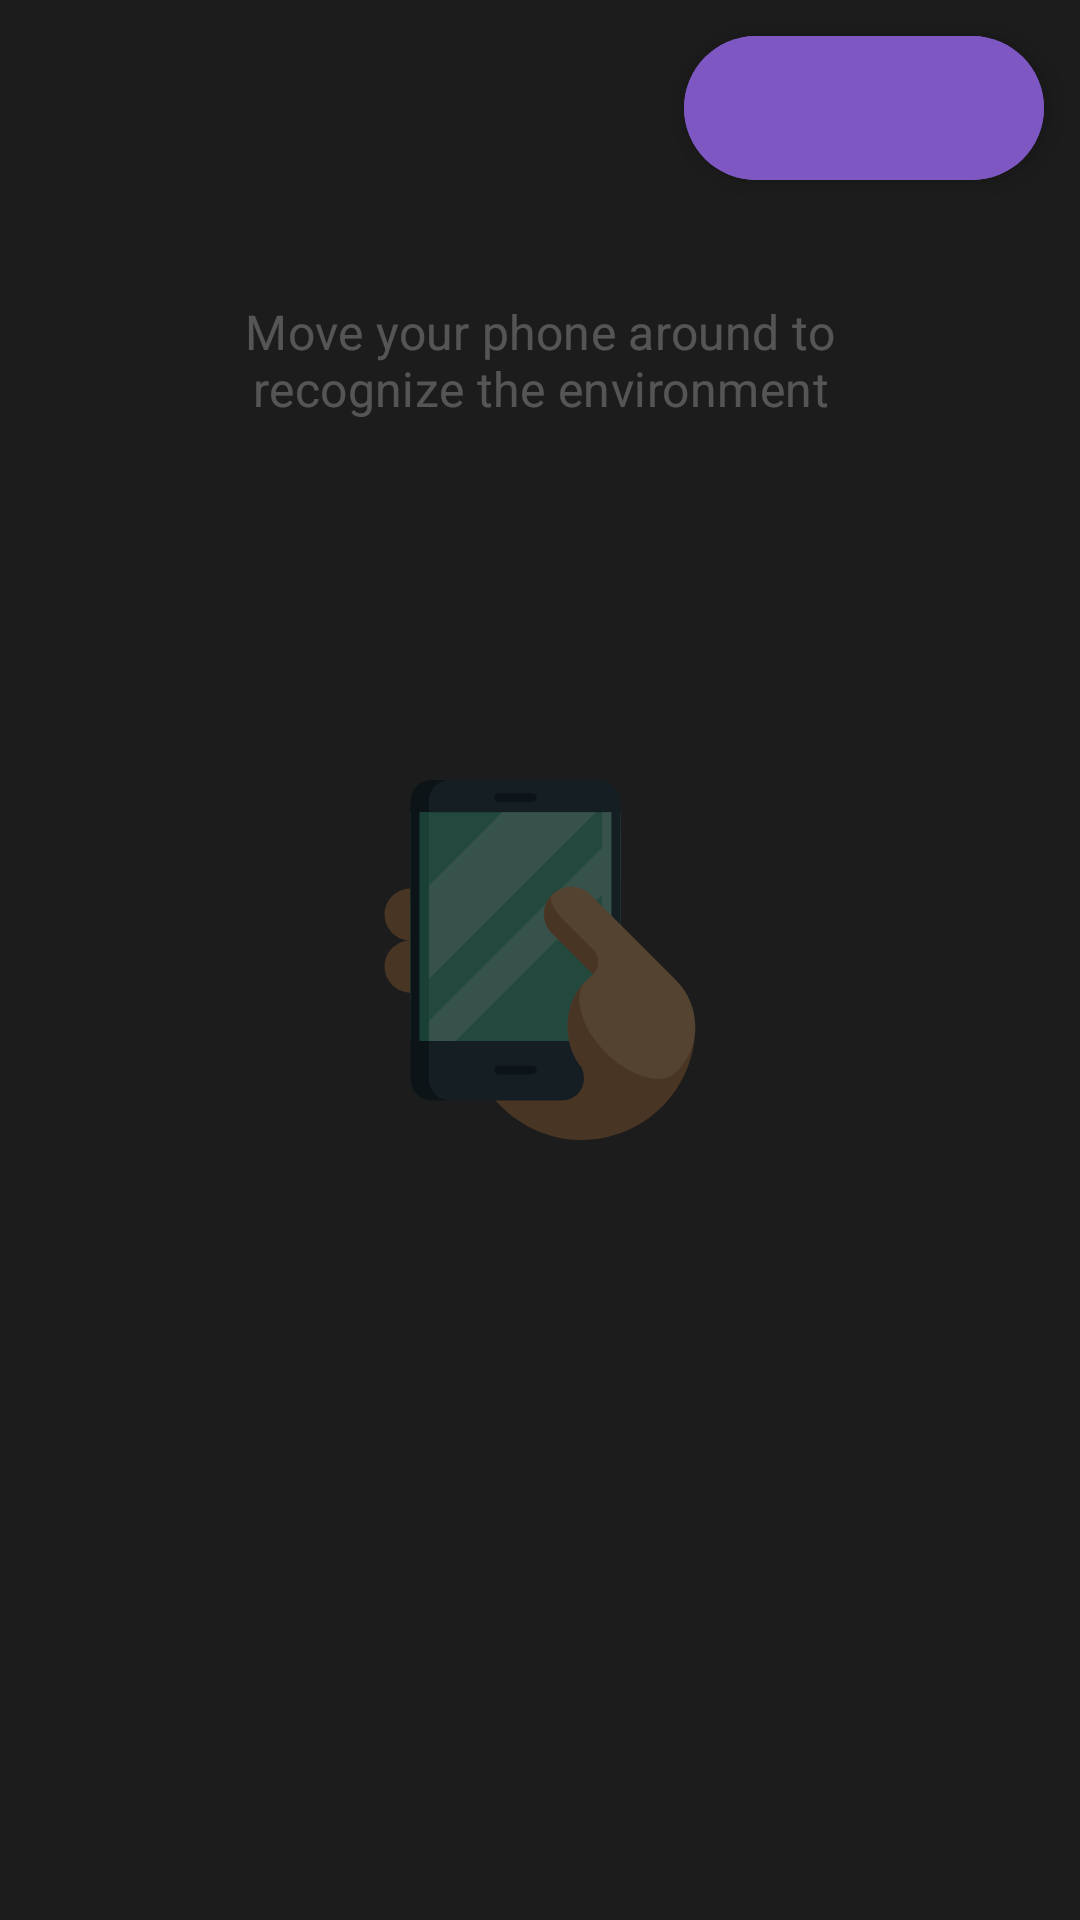

Screen size 1080px x 1920px. Icon name, then its center in pixels as (x,y):
phone: (540,976)
